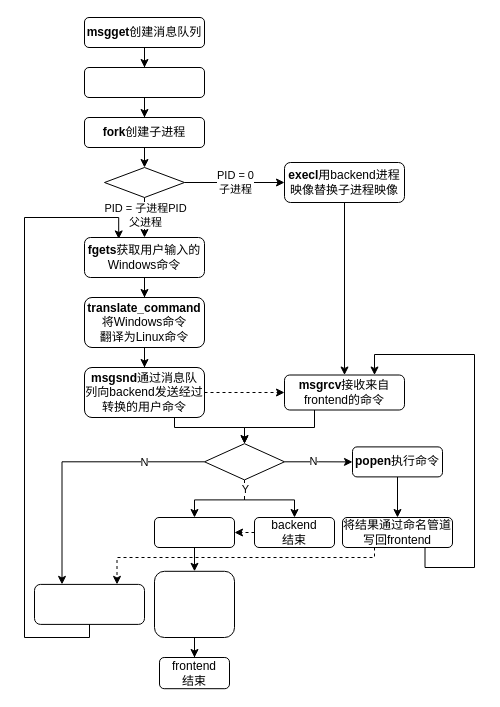
Some shapes in this 500 by 707 pixel diagram are drawn without their labels. Here are the shapes that lost their labels. From the top down, the centre of each, then its label:
At point 144,82: "mkfifo 创建命名管道".
At point 144,182: "PID = ？".
At point 244,461: "exit?".
At point 194,532: "wait 等待 backend结束".
At point 89,603: "读取命名管道， 将结果回显给用户".
At point 194,604: "msgctl 删除消息队列 unlink 删除命名管道".
